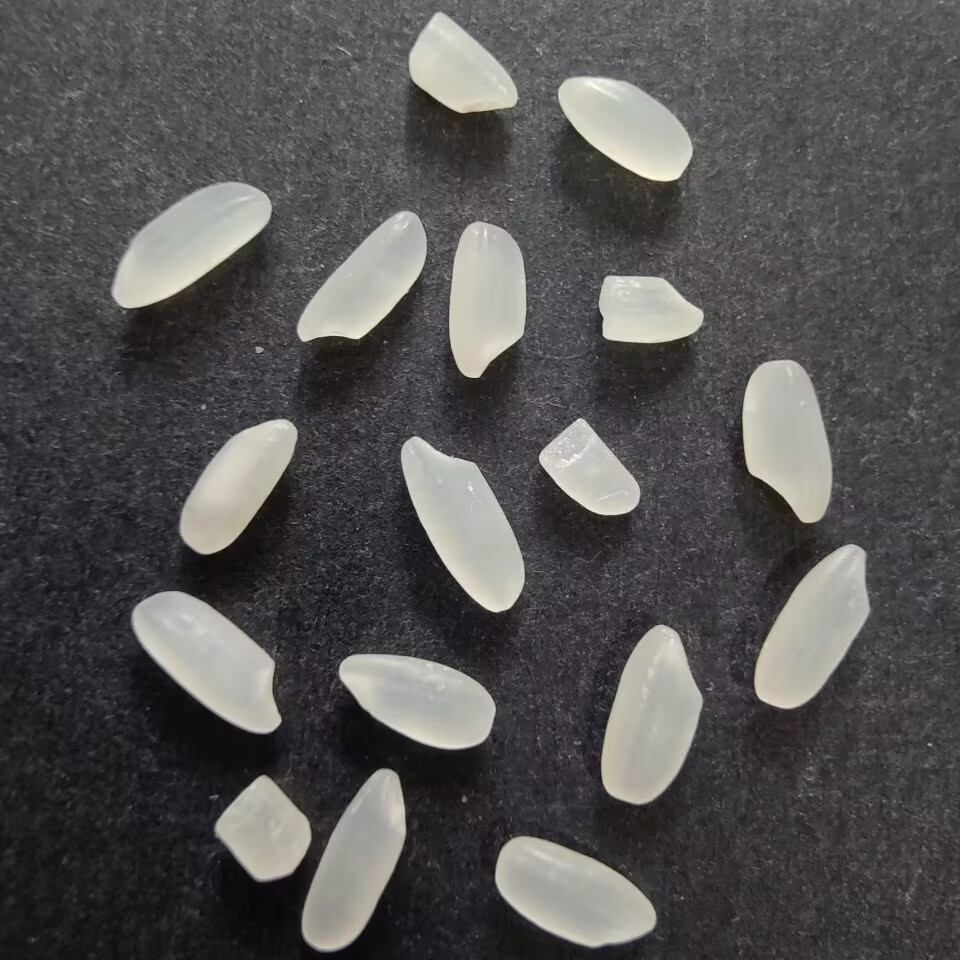broken: (407, 6, 520, 116), (211, 768, 315, 887), (535, 416, 644, 519), (591, 269, 710, 347)
rice: (395, 432, 528, 615), (126, 591, 285, 737), (105, 180, 278, 311), (297, 764, 411, 953), (750, 542, 878, 710), (595, 622, 709, 807), (291, 205, 430, 350), (491, 833, 662, 950), (178, 414, 298, 559), (333, 650, 501, 752), (739, 353, 838, 525), (557, 75, 695, 184), (444, 215, 530, 382)
